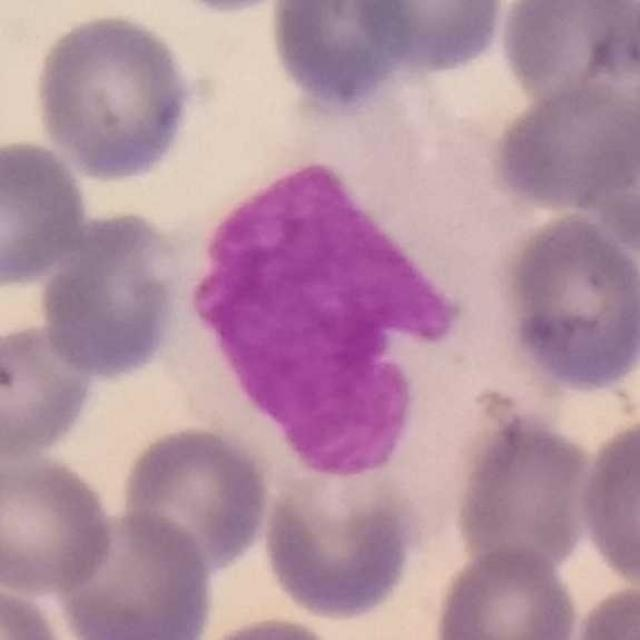Monocyte: (168, 85, 524, 495)
RBC: (256, 443, 426, 624), (27, 9, 200, 185), (492, 208, 640, 396), (35, 206, 186, 384), (450, 408, 600, 578), (115, 421, 275, 576), (52, 506, 217, 640), (485, 78, 639, 215), (264, 0, 424, 110), (0, 448, 118, 596), (494, 0, 638, 111), (430, 541, 582, 640), (0, 318, 102, 461), (0, 135, 91, 289), (346, 0, 509, 75), (575, 413, 640, 593), (575, 85, 640, 257), (185, 612, 349, 640), (567, 581, 640, 640), (0, 581, 70, 640), (151, 0, 316, 18)
